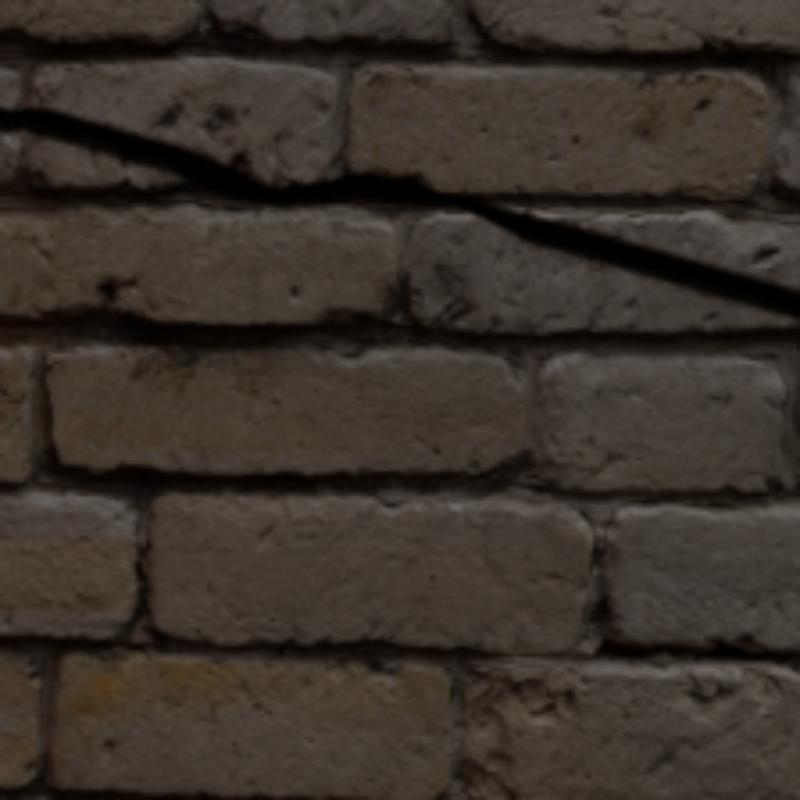pothole: (0, 107, 796, 321)
